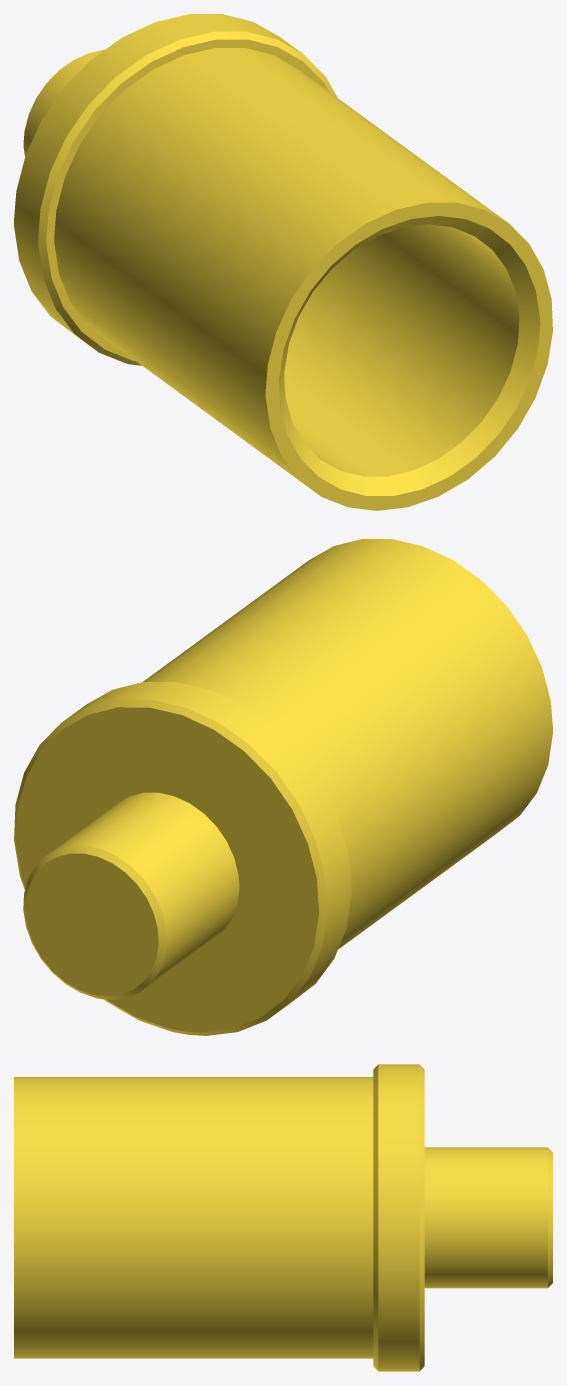
The model's file is REV_11_2159_P11_2__REV_11_2159_P11_2.gltf.
3 views of the same model, one above another, from view 1: azimuth 30°, elevation 25°; view 2: azimuth 150°, elevation 25°; view 3: azimuth 270°, elevation 25° (orthographic). The views are drawn at different scales.
Visible parts, largest first — view 1: mesh84056, mesh84059, mesh84057, mesh84053, mesh84058, mesh84054, mesh84055, mesh84050; view 2: mesh84056, mesh84051, mesh84050, mesh84048, mesh84053, mesh84052, mesh84049; view 3: mesh84056, mesh84050, mesh84053, mesh84052, mesh84054, mesh84049.
Boxes of the visible parts, x1,y1,x2,y2 form: mesh84056: (54, 48, 507, 493); mesh84059: (284, 224, 519, 476); mesh84057: (265, 202, 552, 510); mesh84053: (14, 14, 302, 347); mesh84058: (279, 216, 540, 495); mesh84054: (38, 31, 337, 365); mesh84055: (46, 39, 328, 360); mesh84050: (23, 49, 104, 156); mesh84056: (143, 539, 552, 949); mesh84051: (16, 707, 318, 1032); mesh84050: (46, 792, 239, 988); mesh84048: (25, 853, 158, 996); mesh84053: (63, 682, 351, 1017); mesh84052: (14, 699, 327, 1035); mesh84049: (23, 845, 166, 999); mesh84056: (14, 1077, 373, 1358); mesh84050: (424, 1147, 547, 1288); mesh84053: (378, 1064, 419, 1371); mesh84052: (419, 1065, 424, 1370); mesh84054: (373, 1065, 378, 1370); mesh84049: (548, 1148, 552, 1287).
Bounding box in the file's own units: 0.00599 × 0.00599 × 0.0105.
